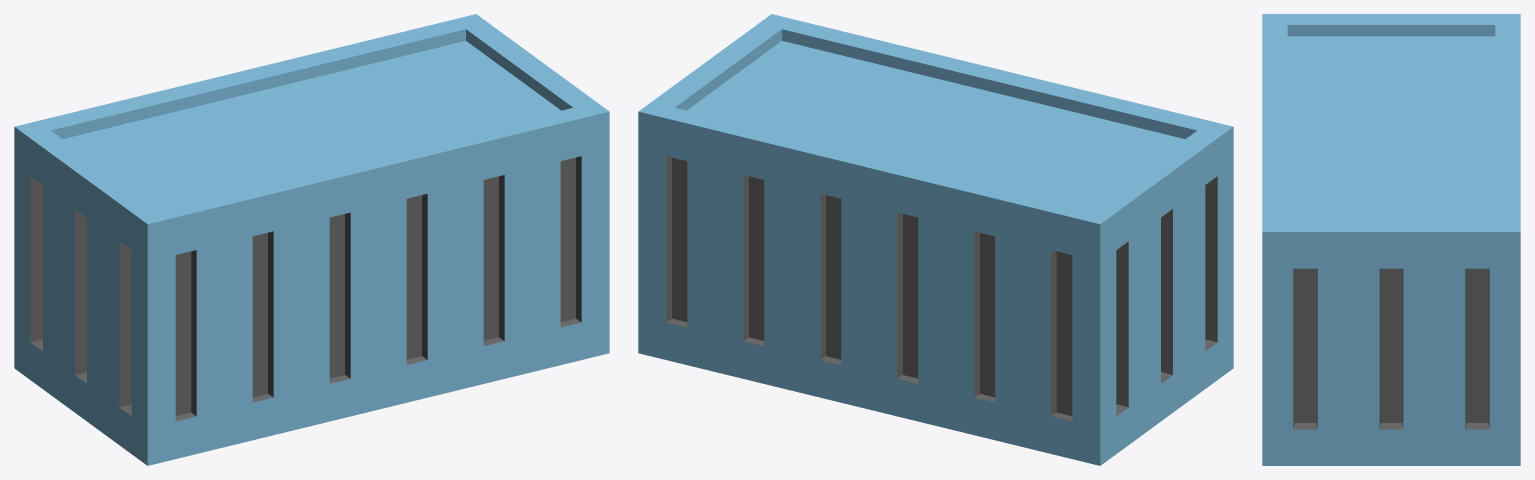
The model's file is cont_1.fbx.
3 views of the same model, side by side, from view 1: azimuth 30°, elevation 25°; view 2: azimuth 150°, elevation 25°; view 3: azimuth 270°, elevation 25° (orthographic). The views are drawn at different scales.
Parts seen in each view (by area): view 1: cont; view 2: cont; view 3: cont.
Boxes of the visible parts, x1=… form: cont: x1=14, y1=14, x2=609, y2=465; cont: x1=638, y1=14, x2=1233, y2=465; cont: x1=1262, y1=14, x2=1520, y2=465.
Bounding box in the file's own units: 400 × 200 × 200.
